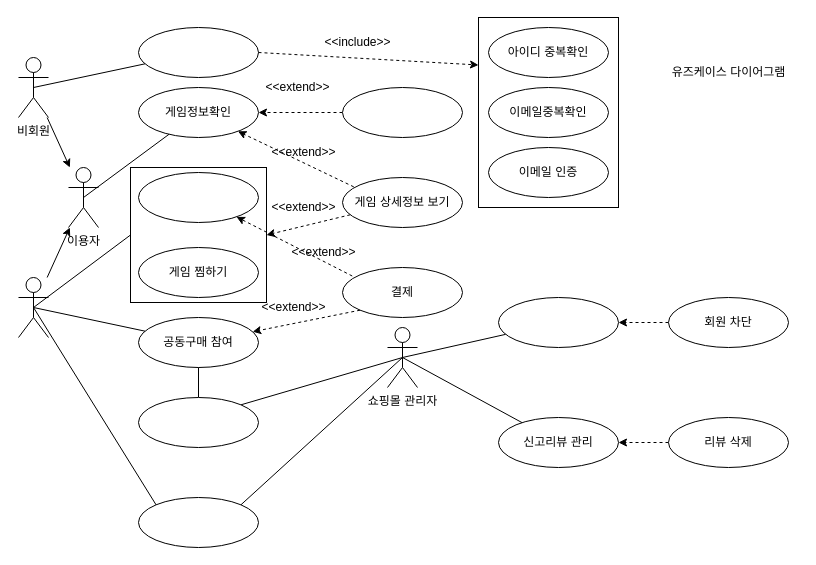
Image size: 816x565. Some labels were removed from this diagram. The shapes that lost their labels are listed below. From the top down, each one's centre as x and y in pixels, then its label:
point 198,52: 회원가입
point 402,112: 게임 검색
point 198,197: 장바구니 담기
point 33,307: 회원
point 558,322: 불량회원관리
point 198,422: 공동구매 등록
point 198,522: 로그인
